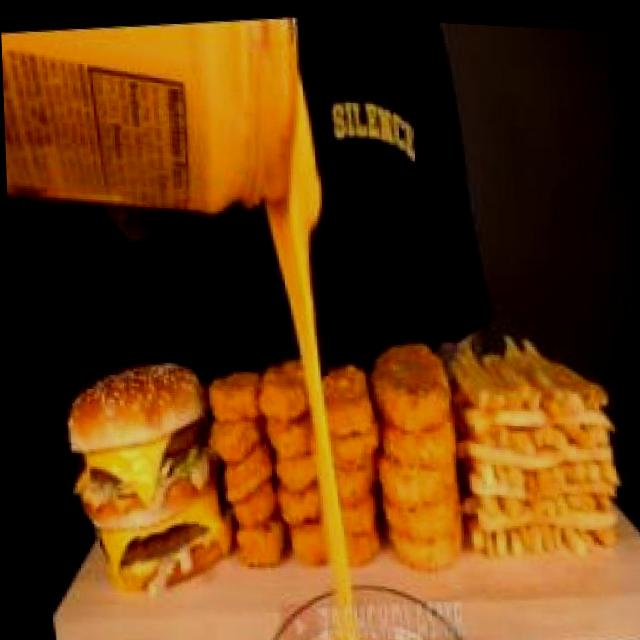Hashbrown: (362, 311, 479, 584)
burger: (44, 309, 246, 620)
french fries: (438, 305, 639, 580)
nugget: (189, 312, 389, 575)
tostitos cheese dip sauce: (0, 0, 355, 296)
